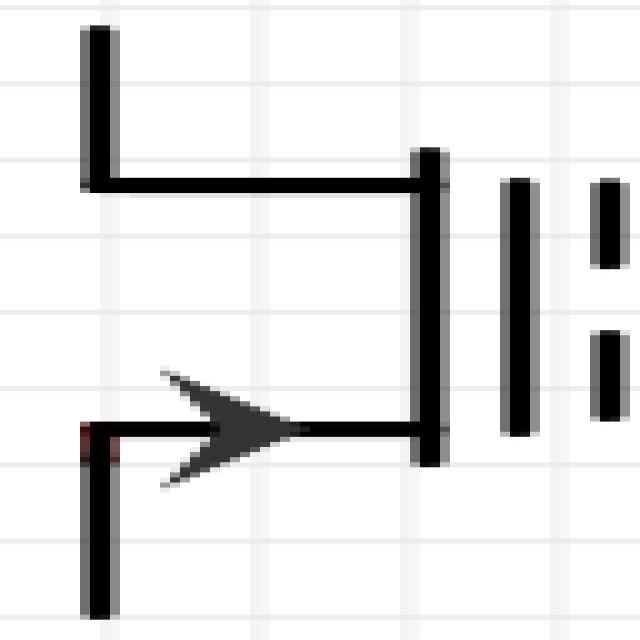pmos: (30, 15, 640, 610)
